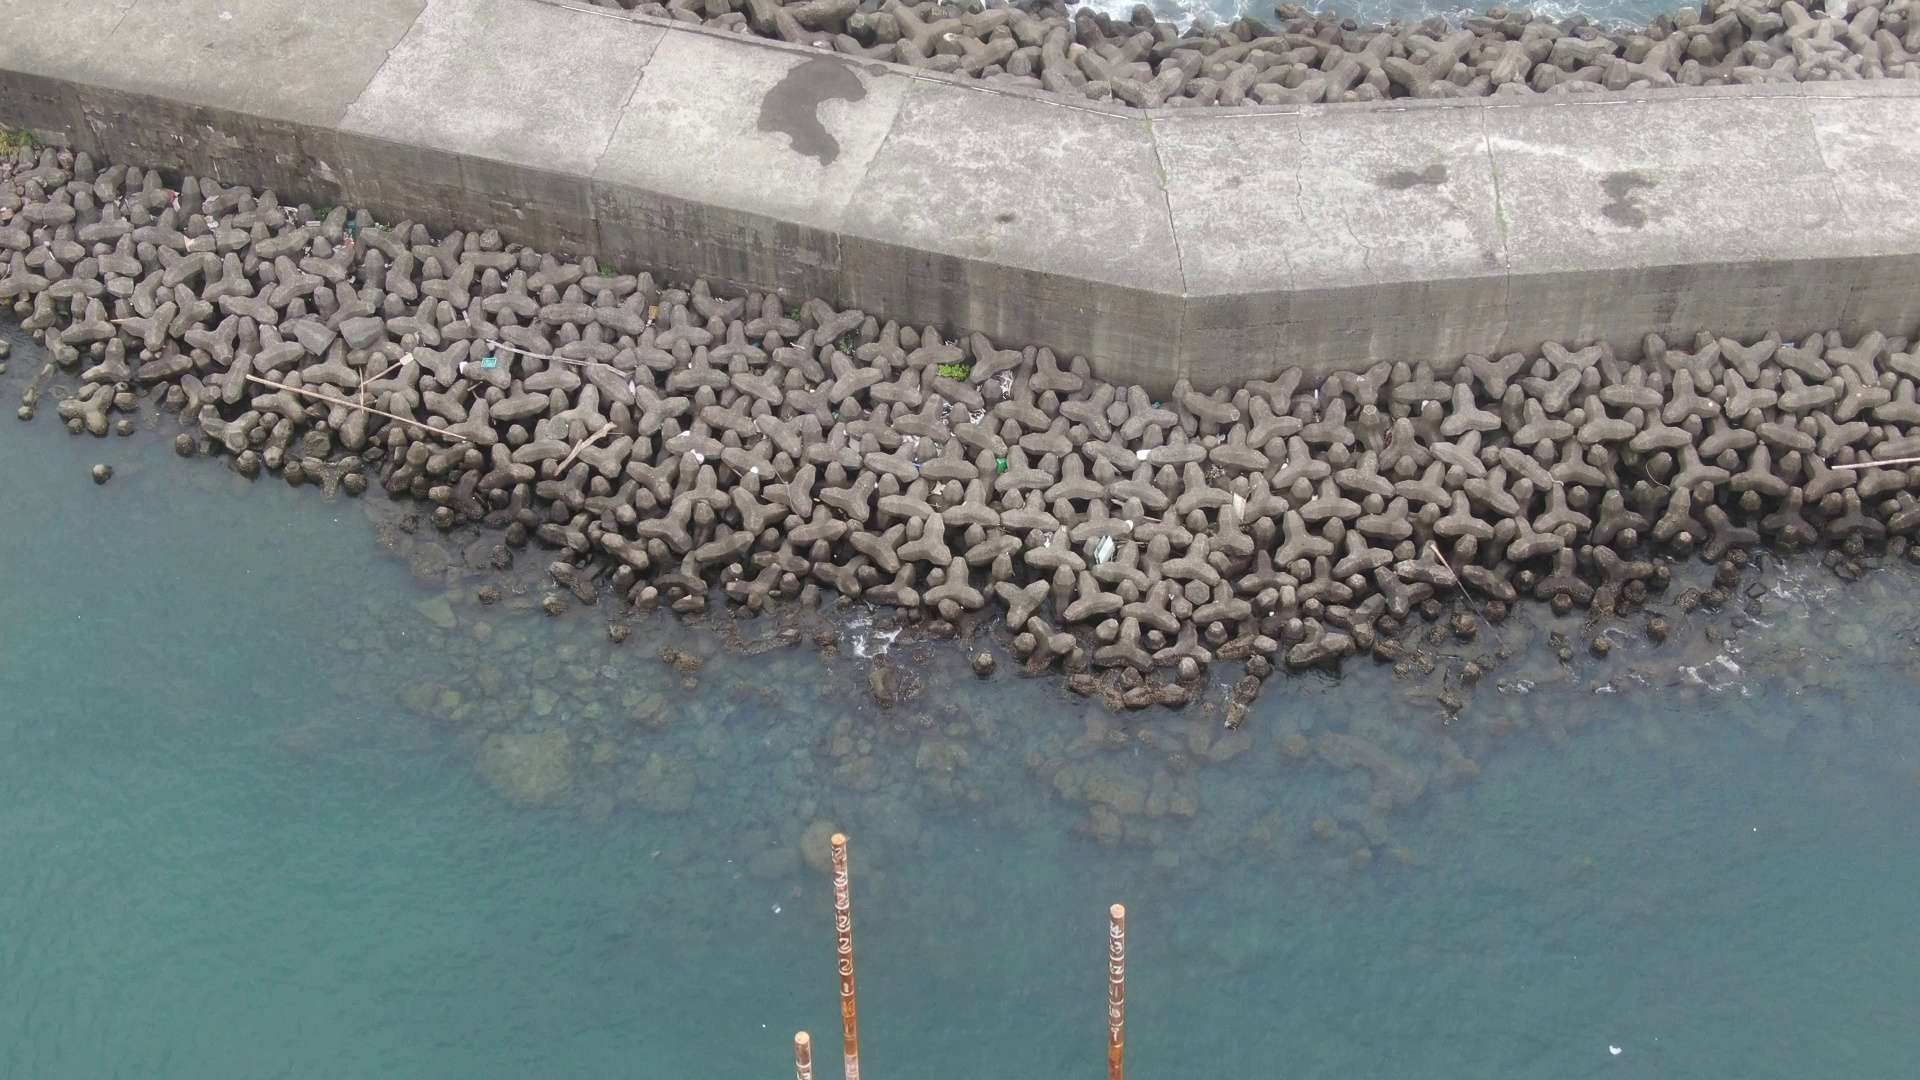garbage: (975, 448, 1026, 483), (1091, 529, 1124, 578), (472, 348, 506, 375)
